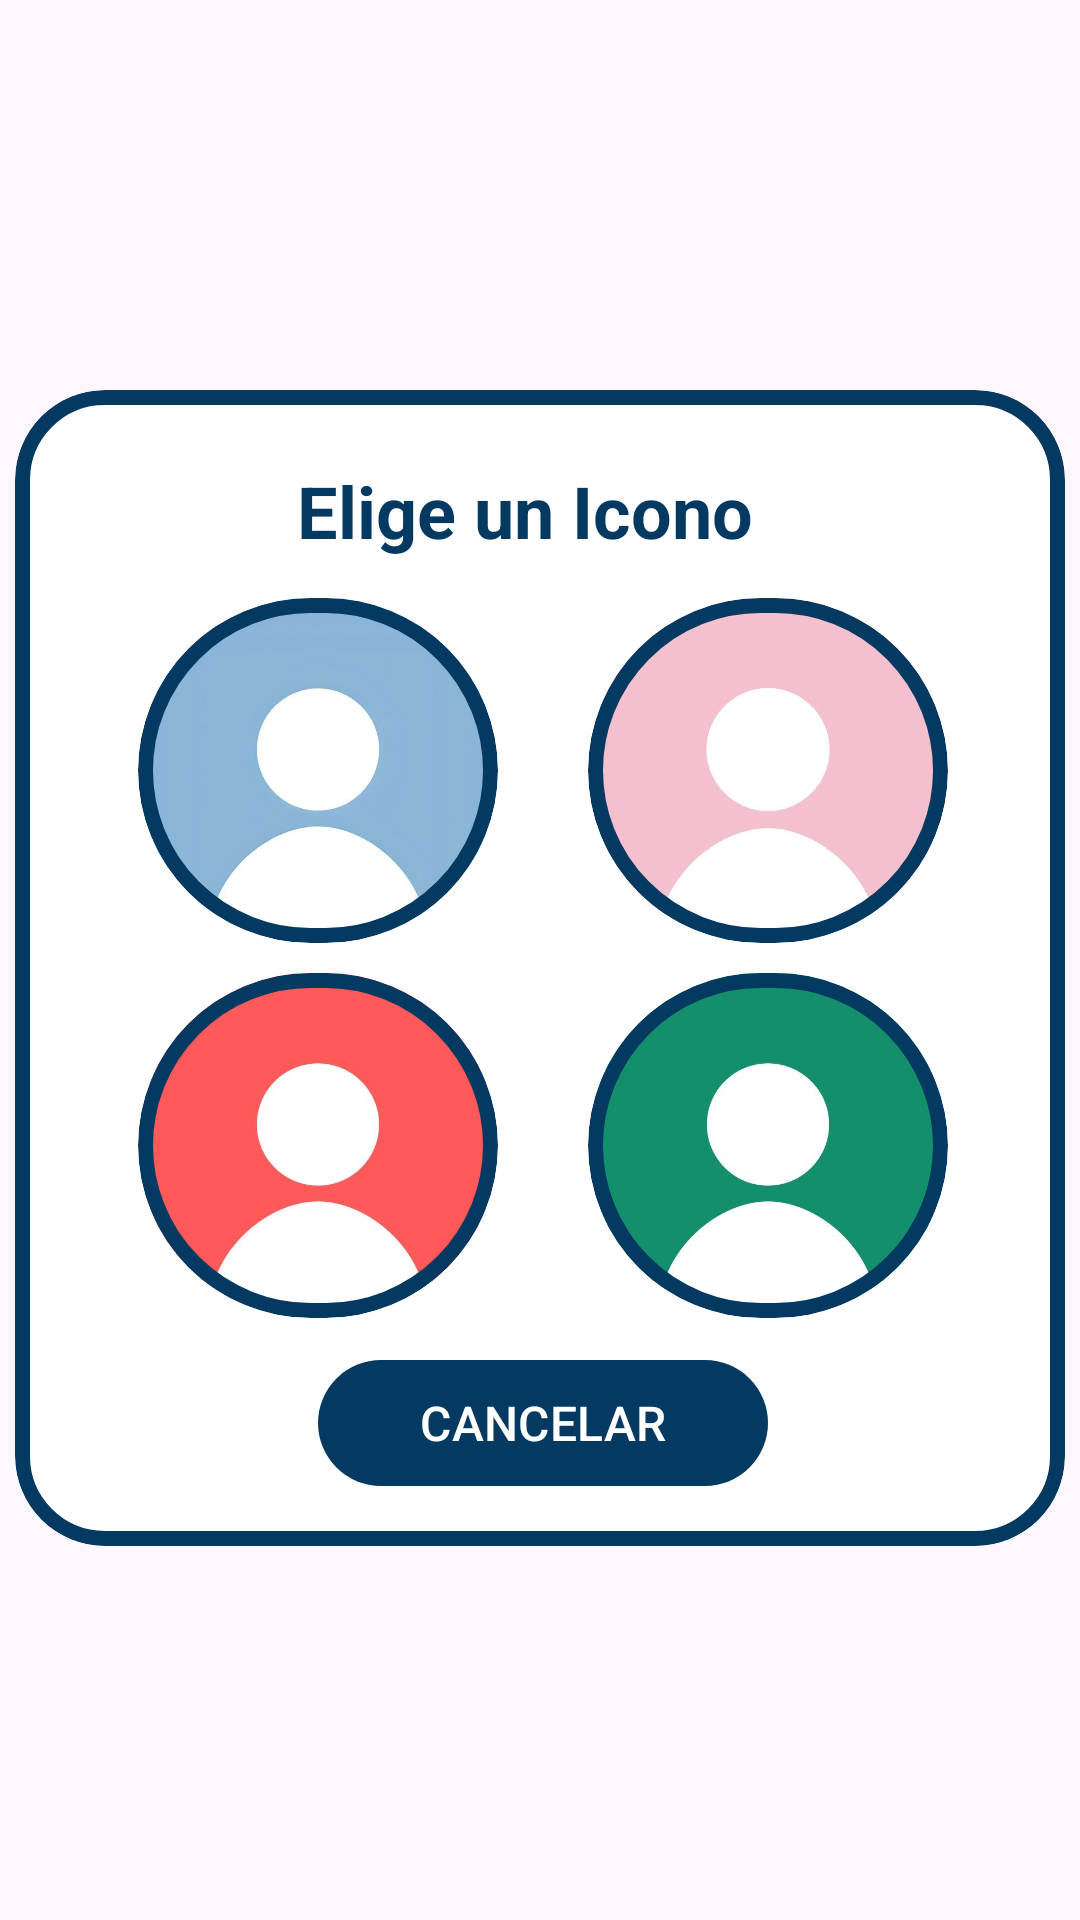

Icons on this 1080 × 1920 Android screen, each with the point to tap as [x,y]:
azul: [318,763]
rojo: [318,1138]
rosa: [768,763]
verde: [768,1138]
